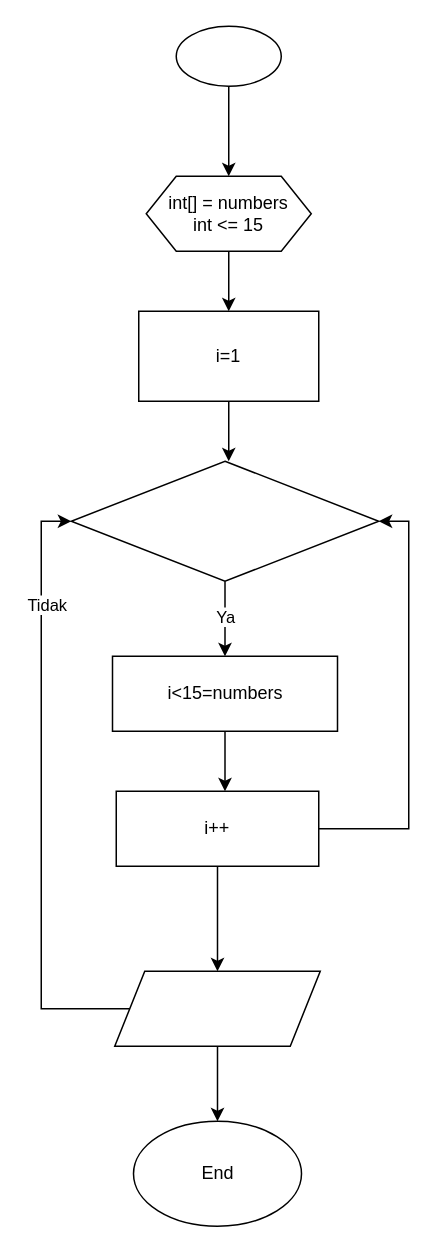
This 447x1253 diagram has some shape labels left out. Each missing label, with the centre of its shape:
"i<numbers.length" goes at (224,520).
"print numbers" goes at (216,1008).
"Start" goes at (228,55).
